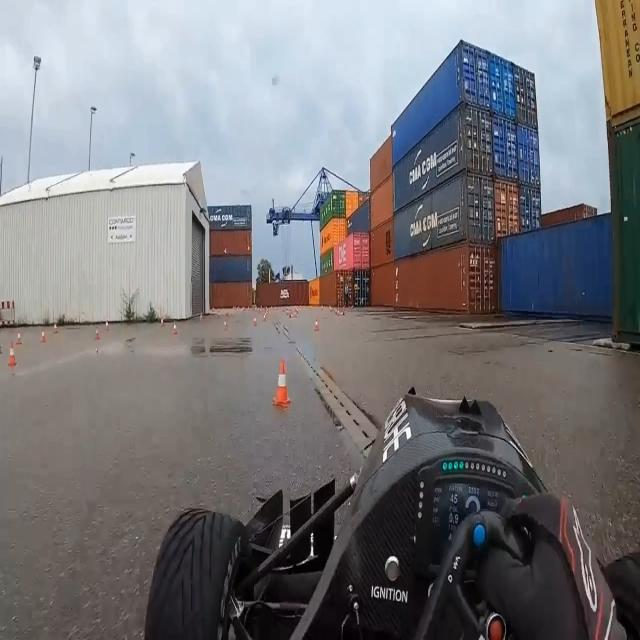Orange cone: (266, 346, 294, 424), (3, 323, 25, 379), (89, 319, 106, 341), (308, 310, 322, 335), (247, 307, 259, 327), (156, 304, 163, 330), (173, 316, 179, 330)
